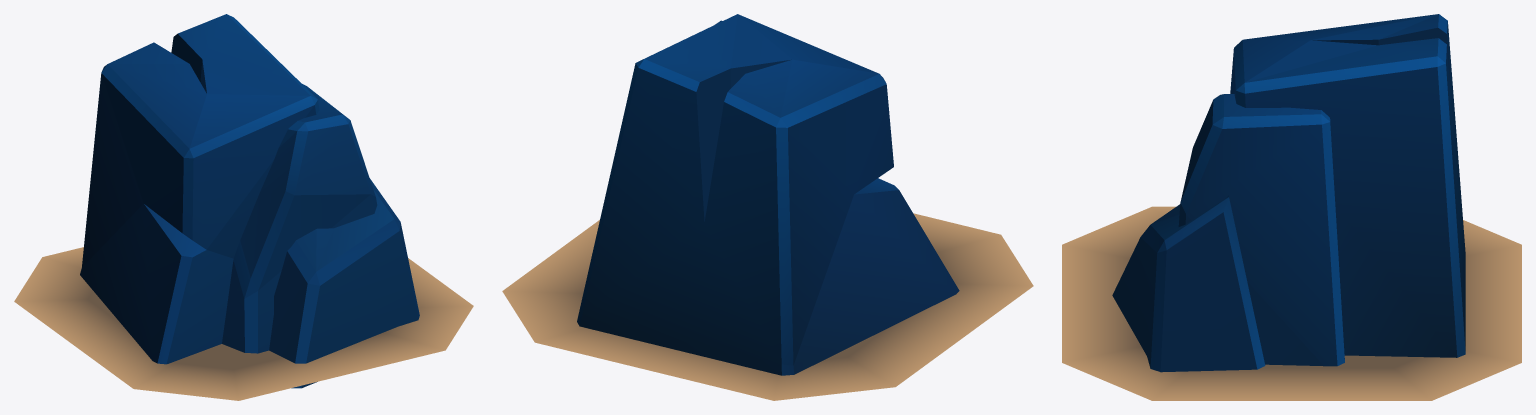
Rendered from Stone_Mid.fbx.
3 renders of one model, left to right at view 1: azimuth 30°, elevation 25°; view 2: azimuth 150°, elevation 25°; view 3: azimuth 270°, elevation 25°, orthographic. The views are drawn at different scales.
Visible parts, largest first — view 1: Stone_Mid; view 2: Stone_Mid; view 3: Stone_Mid.
Boxes of the visible parts, bbox=[...] form: Stone_Mid: bbox=[14, 14, 473, 400]; Stone_Mid: bbox=[502, 14, 1033, 400]; Stone_Mid: bbox=[1062, 14, 1521, 400].
Size of the model in its own units: 2871 by 2153 by 2871.
